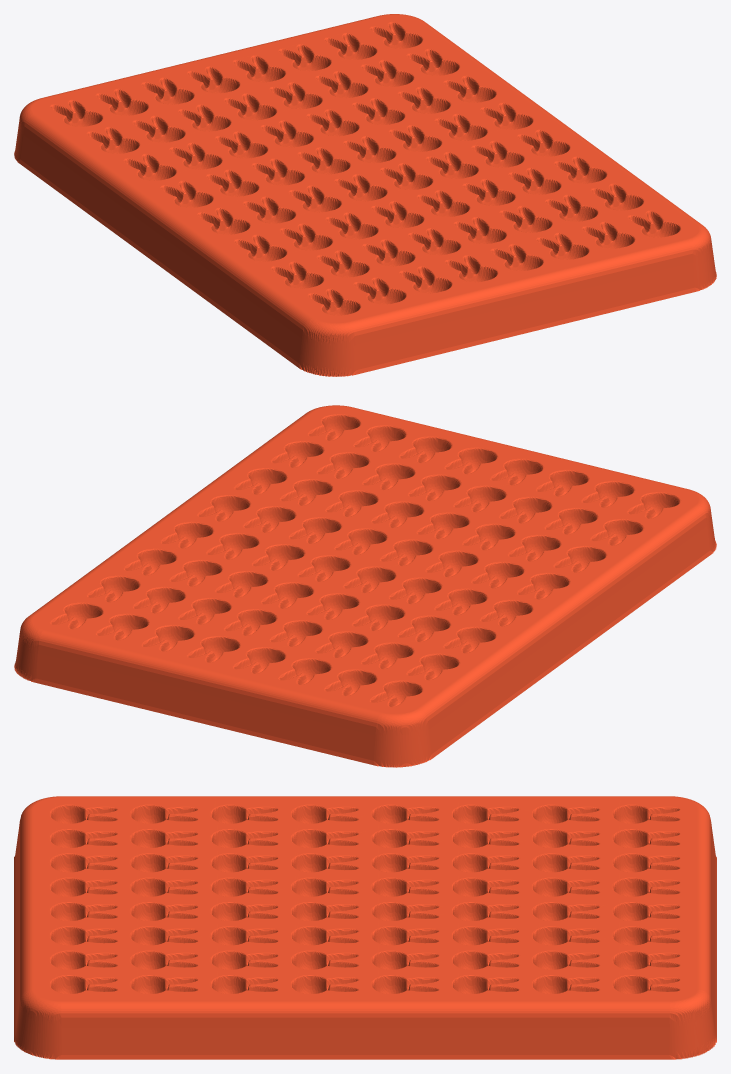
File: mold.glb
3 renders of one model, top to bottom at view 1: azimuth 30°, elevation 25°; view 2: azimuth 150°, elevation 25°; view 3: azimuth 270°, elevation 25°, orthographic. The views are drawn at different scales.
Parts seen in each view (by area): view 1: geometry_0; view 2: geometry_0; view 3: geometry_0.
Part boxes in pixels (bbox=[...]): geometry_0: bbox=[14, 14, 716, 376]; geometry_0: bbox=[14, 405, 716, 767]; geometry_0: bbox=[14, 796, 716, 1059].
Bounding box in the file's own units: 0.0977 × 0.0104 × 0.1319.
